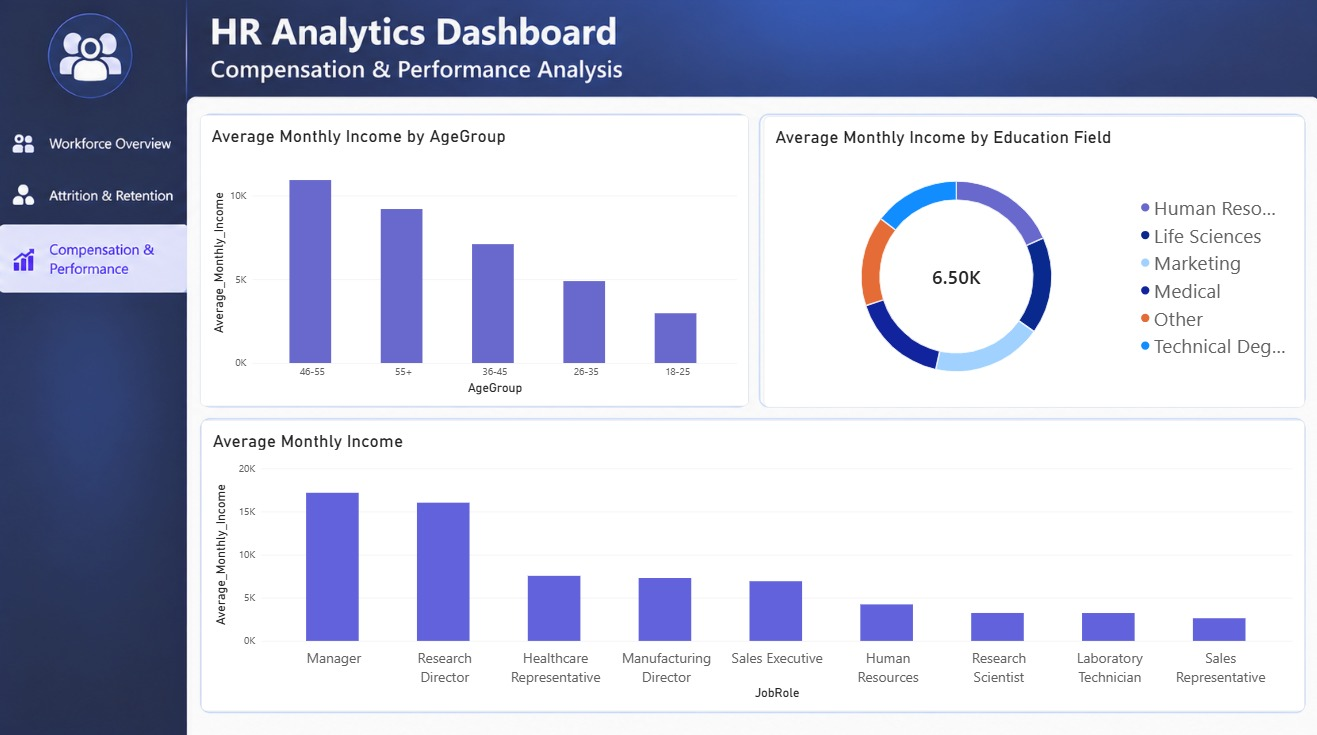

What the dashboard file says about the page in this screenshot:
{"tool":"powerbi","page":{"name":"Compensation & Performance","canvas":[1920,1080],"ordinal":2},"visuals":[{"type":"actionButton","box":[16.4,263.1,247.9,61.5],"z":0},{"type":"actionButton","box":[16.4,183,247.9,61.5],"z":1000},{"type":"clusteredColumnChart","title":"Average Monthly Income by AgeGroup","fields":{"Category":["HR_Analytics_Cleaned.AgeGroup"],"Y":["HR_Analytics_Cleaned.Average_Monthly_Income"]},"box":[296.8,173.7,794.4,421.7],"z":2000},{"type":"clusteredColumnChart","title":"Average Monthly Income","fields":{"Category":["HR_Analytics_Cleaned.JobRole"],"Y":["HR_Analytics_Cleaned.Average_Monthly_Income"]},"box":[298.1,614.6,1597.3,421.4],"z":3000},{"type":"donutChart","title":"Average Monthly Income by Education Field","fields":{"Series":["HR_Analytics_Cleaned.EducationField"],"Y":["HR_Analytics_Cleaned.Average_Monthly_Income"]},"box":[1112.1,174.7,783.2,421.4],"z":4000}]}

Visuals, with their boxes on the page's 1920x1080 design canvas (x1, y1, x2, y2). These are canvas units, not pixel positions in the 1317x735 screenshot, which may show the page scaled, cropped or inside an application window:
actionButton: Rect(16, 263, 264, 325)
actionButton: Rect(16, 183, 264, 244)
"Average Monthly Income by AgeGroup" clusteredColumnChart: Rect(297, 174, 1091, 595)
"Average Monthly Income" clusteredColumnChart: Rect(298, 615, 1895, 1036)
"Average Monthly Income by Education Field" donutChart: Rect(1112, 175, 1895, 596)
